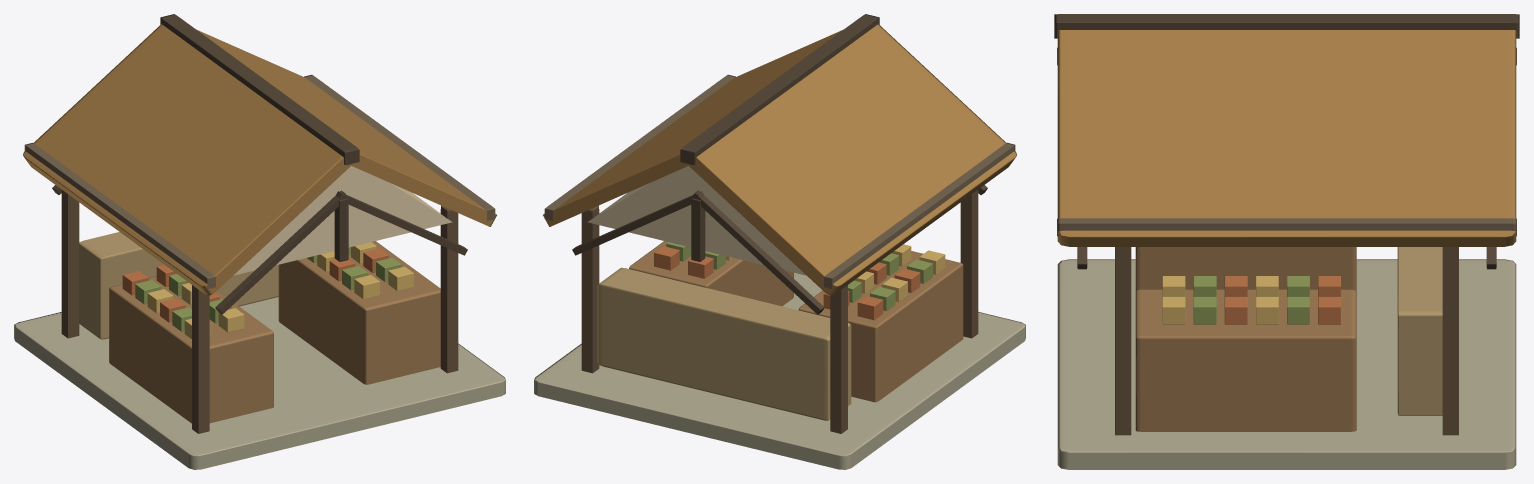
The model's file is market-1.glb.
The picture shows the model from 3 angles, left to right: view 1: azimuth 30°, elevation 25°; view 2: azimuth 150°, elevation 25°; view 3: azimuth 270°, elevation 25°; orthographic projection. The views are drawn at different scales.
Visible parts, largest first — view 1: market-1-0; view 2: market-1-0; view 3: market-1-0.
Boxes of the visible parts, box(x1,y1,x2,y2) form: market-1-0: box(14, 14, 505, 469); market-1-0: box(534, 14, 1025, 469); market-1-0: box(1054, 14, 1519, 469).
Bounding box in the file's own units: 2.8 × 2.39 × 2.84.
